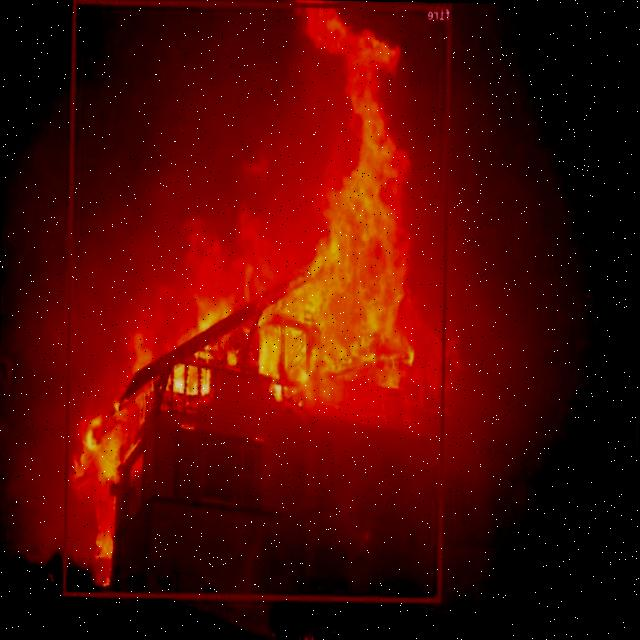fire: (63, 0, 451, 601)
